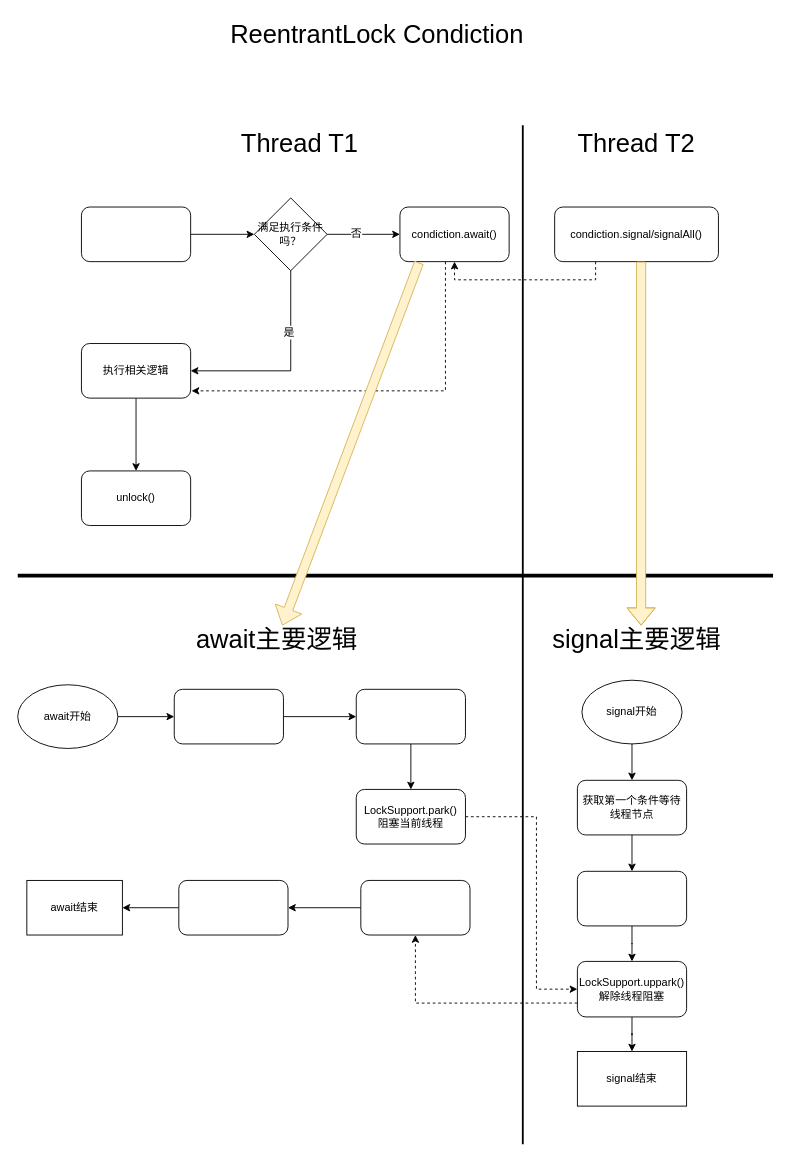
Image size: 804x1160. Some labels were removed from this diagram. The box of each missing label's shape, as (x1, y1, x2, y2) in pixels:
lock（）: (81, 206, 191, 262)
当前线程节点加入等待队列: (173, 688, 283, 744)
更新线程等待状态并入锁等待队列: (576, 870, 687, 926)
移除等待队列中该线程节点: (178, 880, 288, 935)
释放锁 （过程中会唤醒锁队列中的头节点线程）: (355, 688, 465, 744)
重新获取锁: (360, 880, 470, 935)
